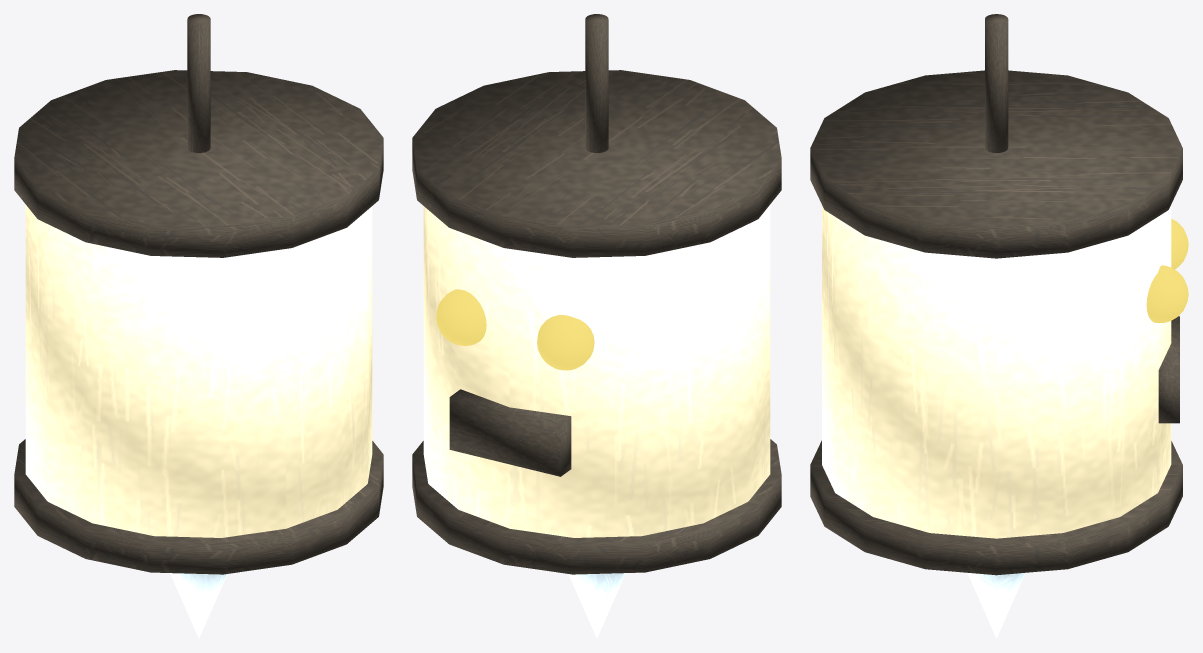
The model's file is chochin-obake.glb.
The picture shows the model from 3 angles, left to right: view 1: azimuth 30°, elevation 25°; view 2: azimuth 150°, elevation 25°; view 3: azimuth 270°, elevation 25°; orthographic projection.
Visible parts, largest first — view 1: Lantern, TopCap, BottomCap, Handle, WispTail; view 2: Lantern, TopCap, BottomCap, Mouth, Handle, Eye, Eye.001, WispTail; view 3: Lantern, TopCap, BottomCap, Handle, WispTail, Eye.001, Mouth, Eye.
Part boxes in pixels (x1,y1,x2,y2): Lantern: (25,205,372,537); TopCap: (14,70,383,257); BottomCap: (14,439,383,574); Handle: (187,14,210,152); WispTail: (170,573,227,638); Lantern: (423,205,770,537); TopCap: (412,70,781,257); BottomCap: (412,439,781,574); Mouth: (449,389,571,476); Handle: (585,14,608,152); Eye: (537,315,594,370); Eye.001: (436,289,486,345); WispTail: (568,573,625,638); Lantern: (822,205,1171,538); TopCap: (810,70,1182,258); BottomCap: (810,440,1182,575); Handle: (985,14,1008,152); WispTail: (967,573,1025,638); Eye.001: (1146,265,1188,323); Mouth: (1158,316,1179,423); Eye: (1171,218,1188,269).
Size of the model in its own units: 0.4357 by 0.8 by 0.4426.
Materials: 4 (3 with a texture image).
